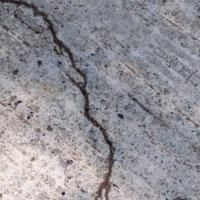crack: (6, 0, 119, 199)
